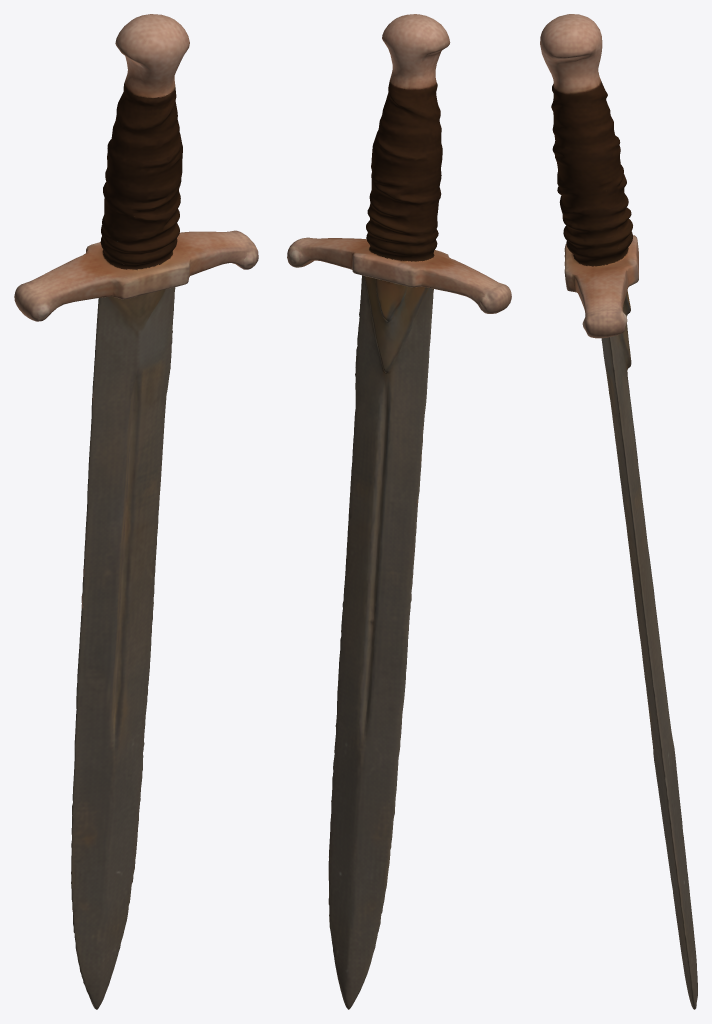
Rendered from dagger.glb.
The picture shows the model from 3 angles, left to right: view 1: azimuth 30°, elevation 25°; view 2: azimuth 150°, elevation 25°; view 3: azimuth 270°, elevation 25°; orthographic projection. The views are drawn at different scales.
Bounding box in the file's own units: 0.2155 × 0.9177 × 0.1329.
Materials: 1 (1 with a texture image).
